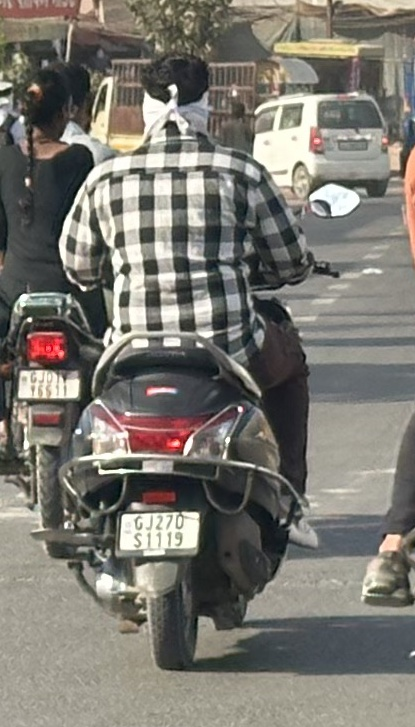BikeWithRider: (36, 47, 362, 676), (0, 49, 135, 575)
NoHelmet: (131, 46, 224, 147), (2, 55, 78, 158), (15, 66, 78, 149), (46, 52, 99, 136), (0, 396, 51, 434)
